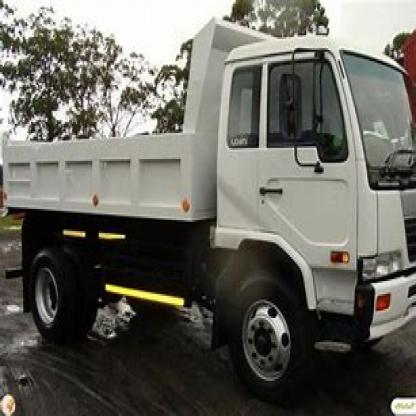dump_truck: (1, 10, 415, 376)
